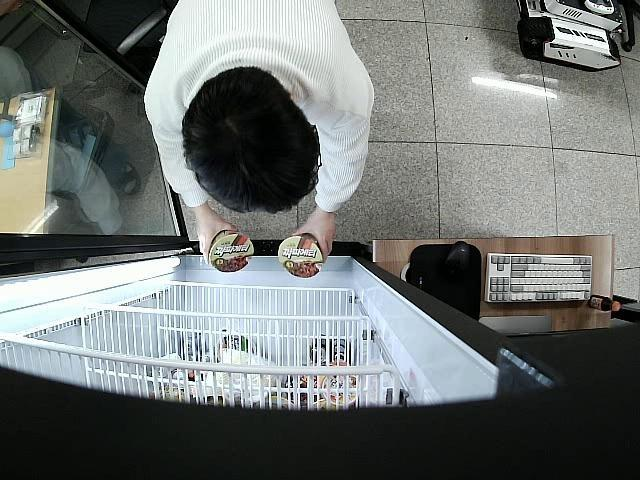03_chapagetti_L: (278, 233, 325, 279), (209, 231, 254, 274)
